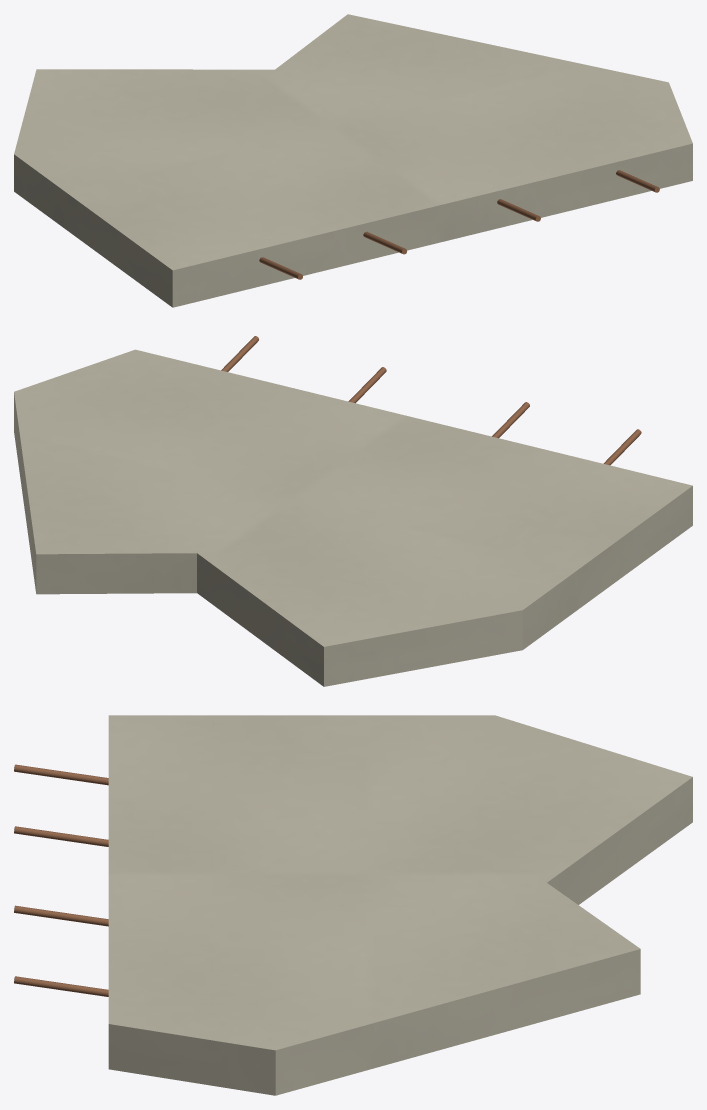
The model's file is Slab_Collapsed.glb.
3 views of the same model, one above another, from view 1: azimuth 30°, elevation 25°; view 2: azimuth 150°, elevation 25°; view 3: azimuth 270°, elevation 25° (orthographic). The views are drawn at different scales.
Parts seen in each view (by area): view 1: Slab_Collapsed; view 2: Slab_Collapsed; view 3: Slab_Collapsed.
Boxes of the visible parts, <box> form: Slab_Collapsed: <box>14,14,692,307</box>; Slab_Collapsed: <box>14,336,692,686</box>; Slab_Collapsed: <box>14,715,692,1095</box>.
Bounding box in the file's own units: 3.8 × 0.2573 × 3.25.
2 materials, 2 textured.
